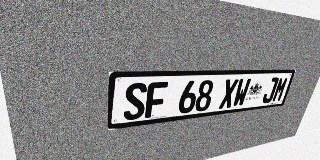6: (177, 80, 199, 114)
8: (194, 80, 215, 112)
F: (145, 82, 168, 118)
J: (261, 77, 279, 104)
M: (271, 77, 289, 102)
S: (123, 82, 147, 121)
W: (232, 78, 251, 107)
X: (218, 79, 239, 109)
